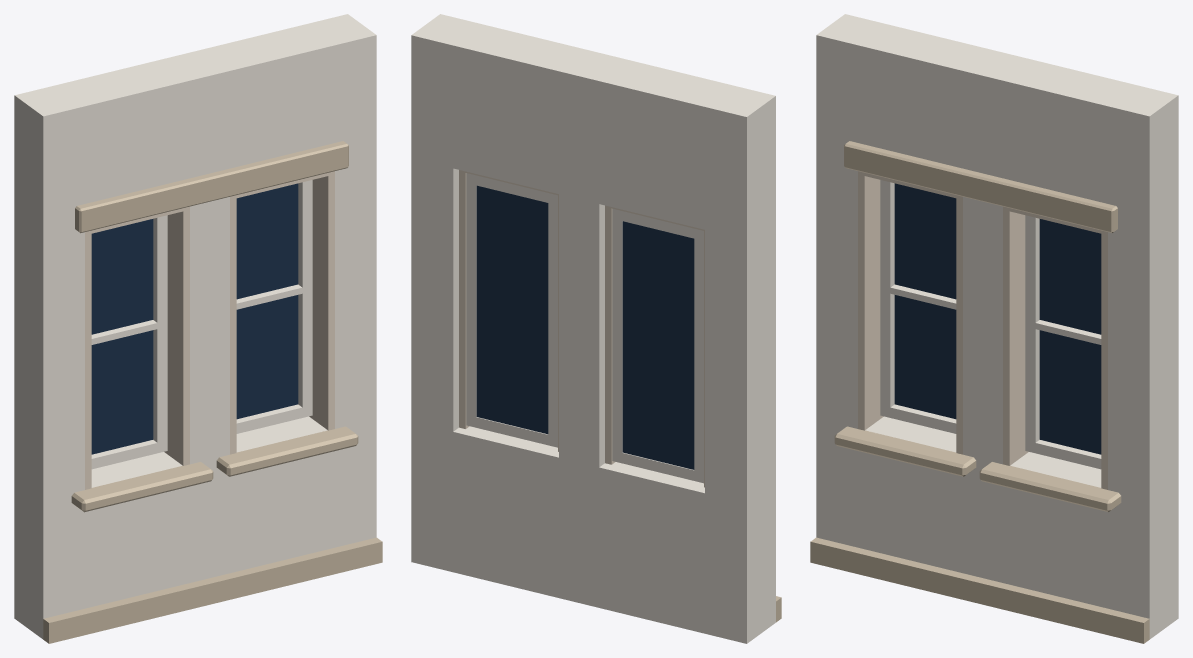
Rendered from window_twin.glb.
The picture shows the model from 3 angles, left to right: view 1: azimuth 30°, elevation 25°; view 2: azimuth 150°, elevation 25°; view 3: azimuth 330°, elevation 25°; orthographic projection.
Visible parts, largest first — view 1: window_twin; view 2: window_twin; view 3: window_twin.
Boxes of the visible parts, bbox=[...] form: window_twin: bbox=[14, 14, 382, 643]; window_twin: bbox=[411, 14, 781, 643]; window_twin: bbox=[810, 14, 1178, 643].
Size of the model in its own units: 2 by 3 by 0.42.
3 materials, 3 textured.
